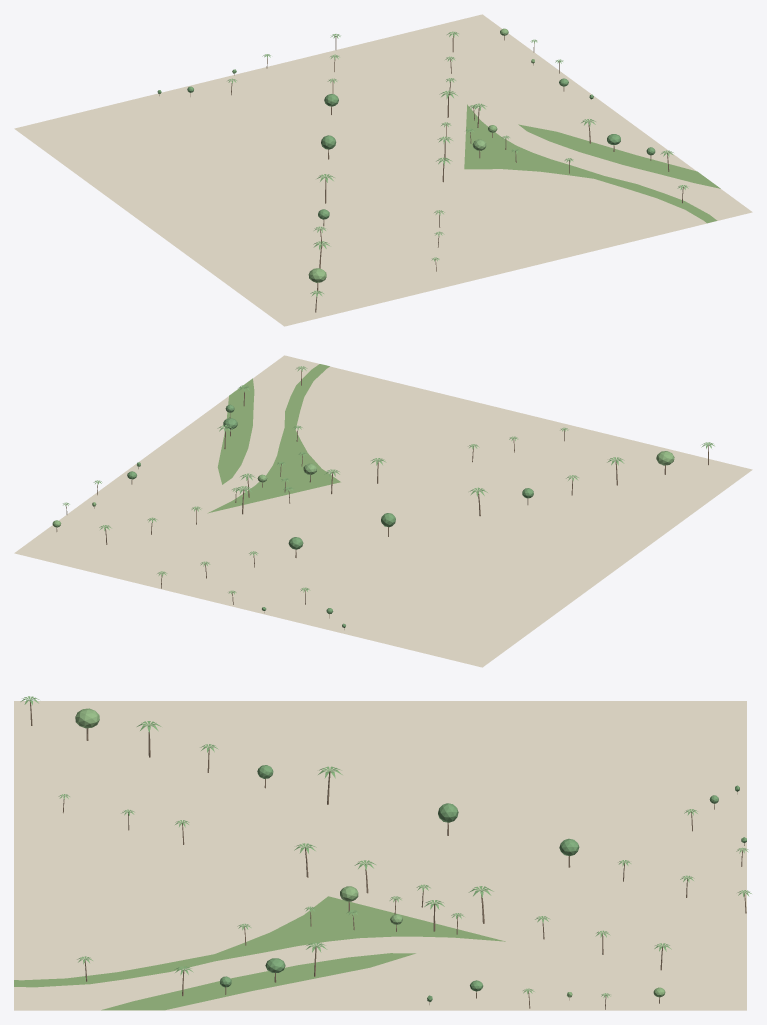
Rendered from nature_-3_-3.glb.
3 renders of one model, top to bottom at view 1: azimuth 30°, elevation 25°; view 2: azimuth 150°, elevation 25°; view 3: azimuth 270°, elevation 25°, orthographic. The views are drawn at different scales.
Visible parts, largest first — view 1: ground, grass, palm_leaf, trunk, foliage_a; view 2: ground, grass, palm_leaf, trunk, foliage_a; view 3: ground, grass, palm_leaf, foliage_a, trunk, foliage_b.
Boxes of the visible parts, box(x1,y1,x2,y2) form: ground: box(14, 14, 752, 326); grass: box(464, 104, 720, 223); palm_leaf: box(227, 31, 688, 296); trunk: box(159, 36, 683, 312); foliage_a: box(157, 69, 655, 219); ground: box(14, 355, 752, 667); grass: box(207, 364, 340, 513); palm_leaf: box(63, 366, 714, 594); trunk: box(56, 370, 708, 629); foliage_a: box(127, 404, 533, 627); ground: box(14, 701, 746, 1010); grass: box(14, 896, 505, 1010); palm_leaf: box(20, 696, 751, 997); foliage_a: box(220, 765, 746, 1001); trunk: box(29, 700, 746, 1009); foliage_b: box(75, 708, 665, 997).
Size of the model in its own units: 252 by 13.47 by 252.
